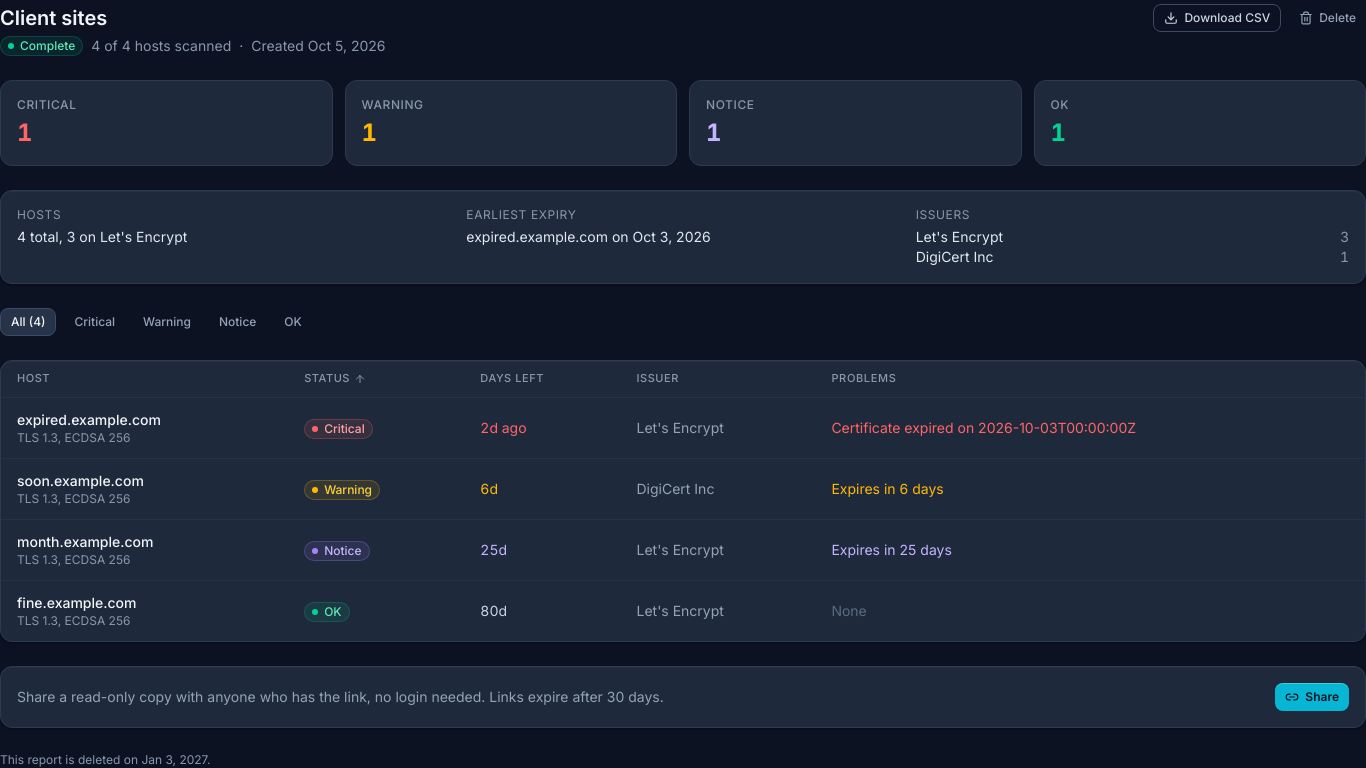
Test: ReportDetail › creates and copies a share link, then revokes it
This screenshot has width=1366, height=768.
(page scrolled)
Step 1. Click the button "Share" → (1312, 697), box [1275,683,1349,711]
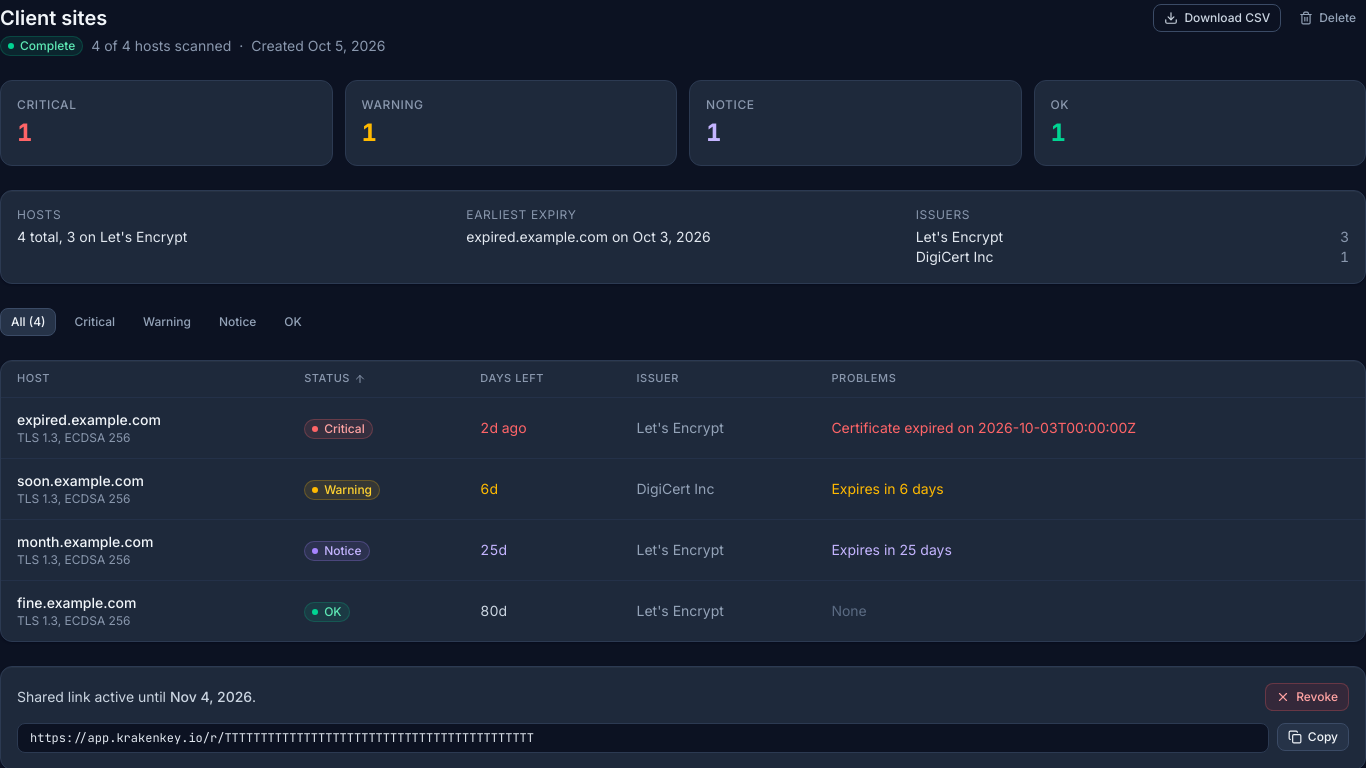
Expected: the text "Shared link active until Nov 4, 2026." is shown, [17,687,256,707]
Step 2. Click the button "Revoke" → (1307, 697), box [1265,683,1349,711]
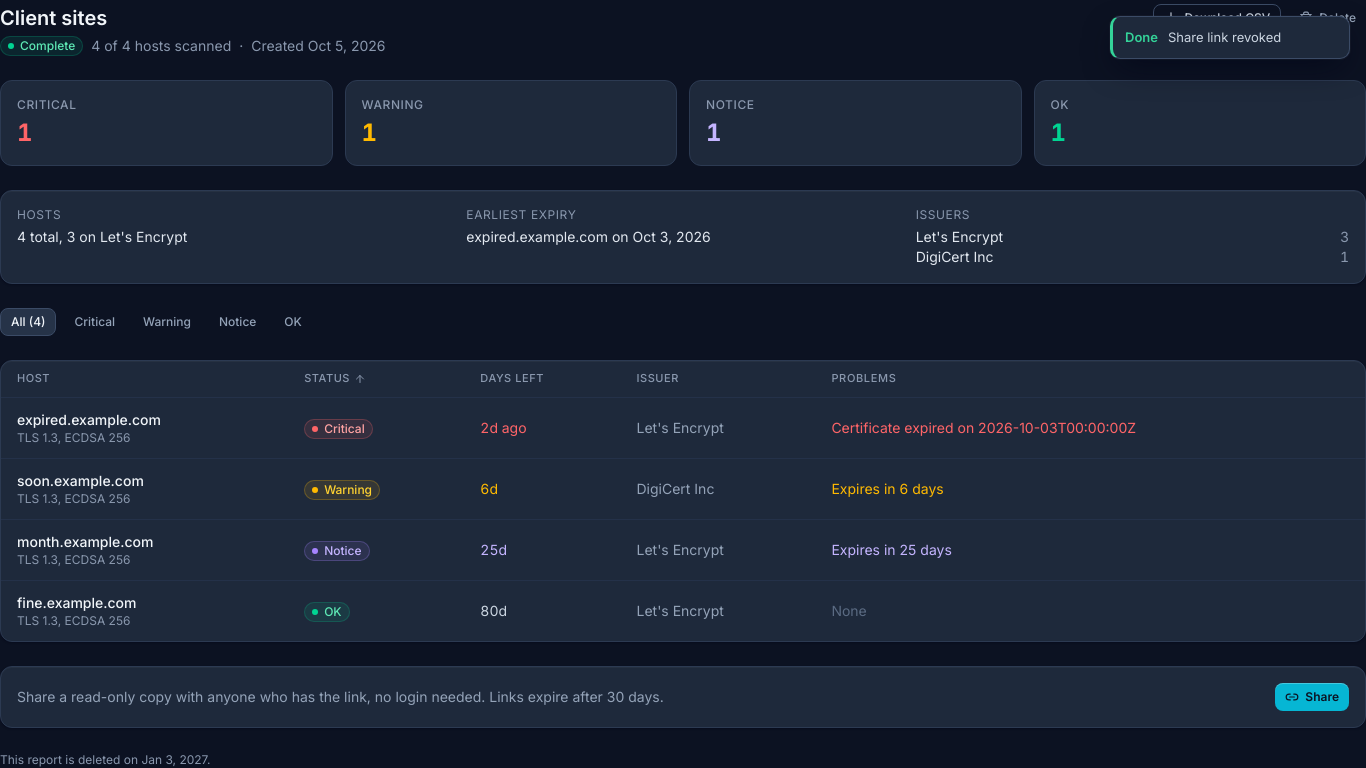
Expected: the button "Share" is shown, [1275,683,1349,711]
